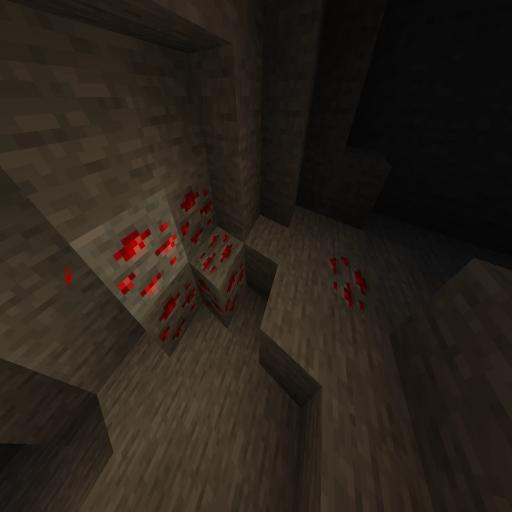redstone ore: (108, 177, 259, 360), (318, 231, 374, 333)
